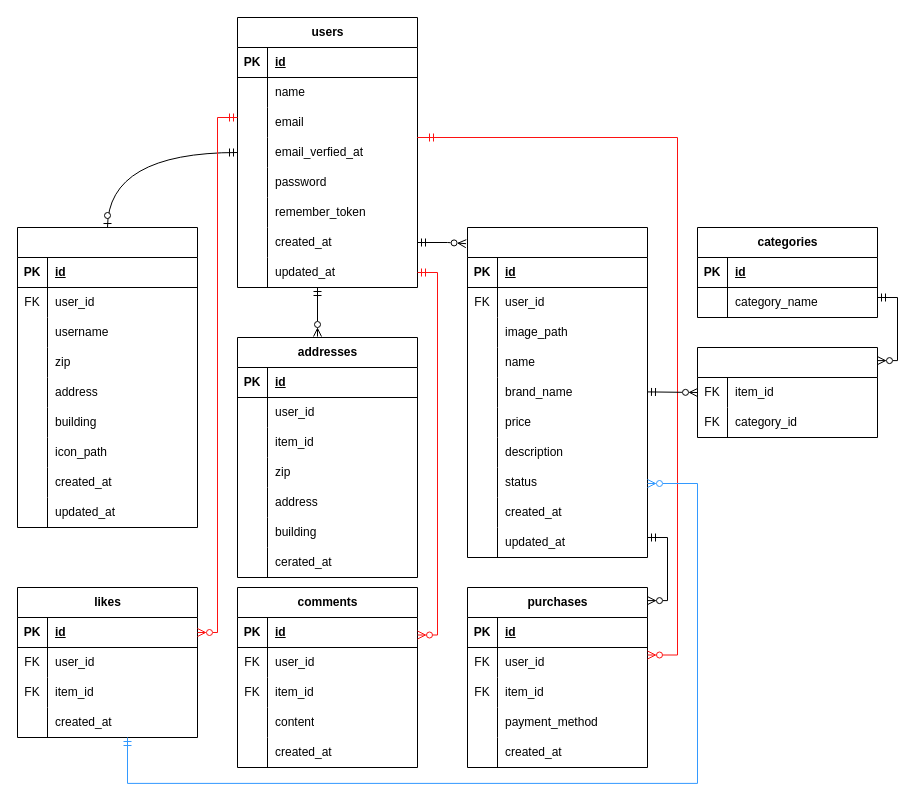
Some shapes in this 924 by 810 pixel diagram are drawn without their labels. The box of each missing label's shape, as (x1, y1, x2, y2) in pixels:
category_item: (696, 346, 878, 438)
items: (466, 226, 648, 558)
profiles: (16, 226, 198, 528)
